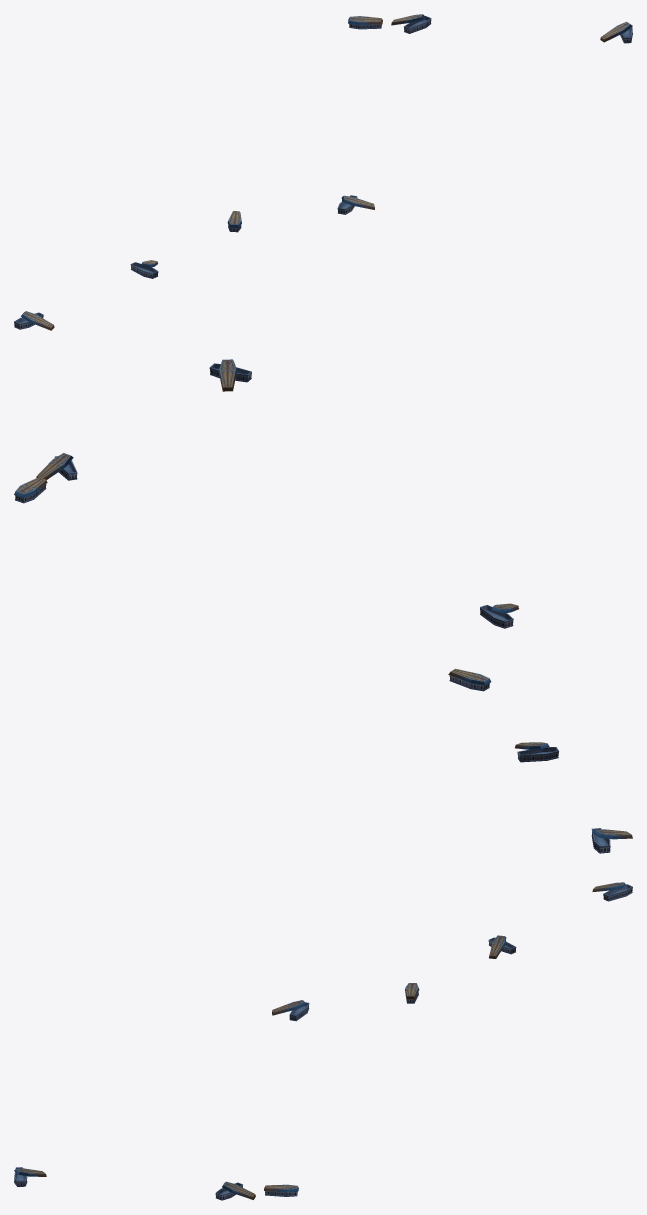
Rendered from Area_09_5.FBX.
The picture shows the model from 3 angles, top to bottom: view 1: azimuth 90°, elevation 25°; view 2: azimuth 150°, elevation 25°; view 3: azimuth 270°, elevation 25°; orthographic projection. The views are drawn at different scales.
Parts seen in each view (by area): view 1: Area_09_5; view 2: Area_09_5; view 3: Area_09_5.
Part boxes in pixels (<box>): Area_09_5: <box>14,14,632,330</box>; Area_09_5: <box>14,359,632,853</box>; Area_09_5: <box>14,882,632,1200</box>.
Size of the model in its own units: 7994 by 180 by 6737.
